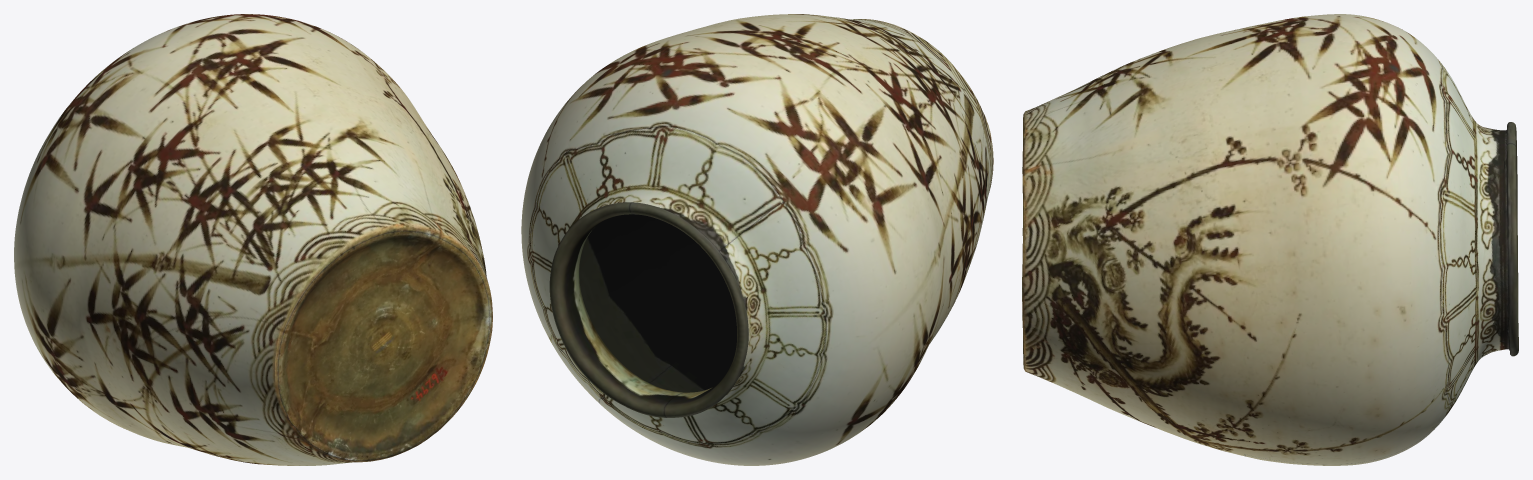
The model's file is nmk-1484.glb.
The picture shows the model from 3 angles, left to right: view 1: azimuth 30°, elevation 25°; view 2: azimuth 150°, elevation 25°; view 3: azimuth 270°, elevation 25°; orthographic projection. The views are drawn at different scales.
Visible parts, largest first — view 1: duk006294-000-30000; view 2: duk006294-000-30000; view 3: duk006294-000-30000.
Part boxes in pixels (x1,y1,x2,y2): duk006294-000-30000: (14, 14, 492, 465); duk006294-000-30000: (521, 14, 993, 465); duk006294-000-30000: (1022, 14, 1518, 465).
Size of the model in its own units: 1.13 by 1.11 by 1.22.
1 material, 1 textured.
